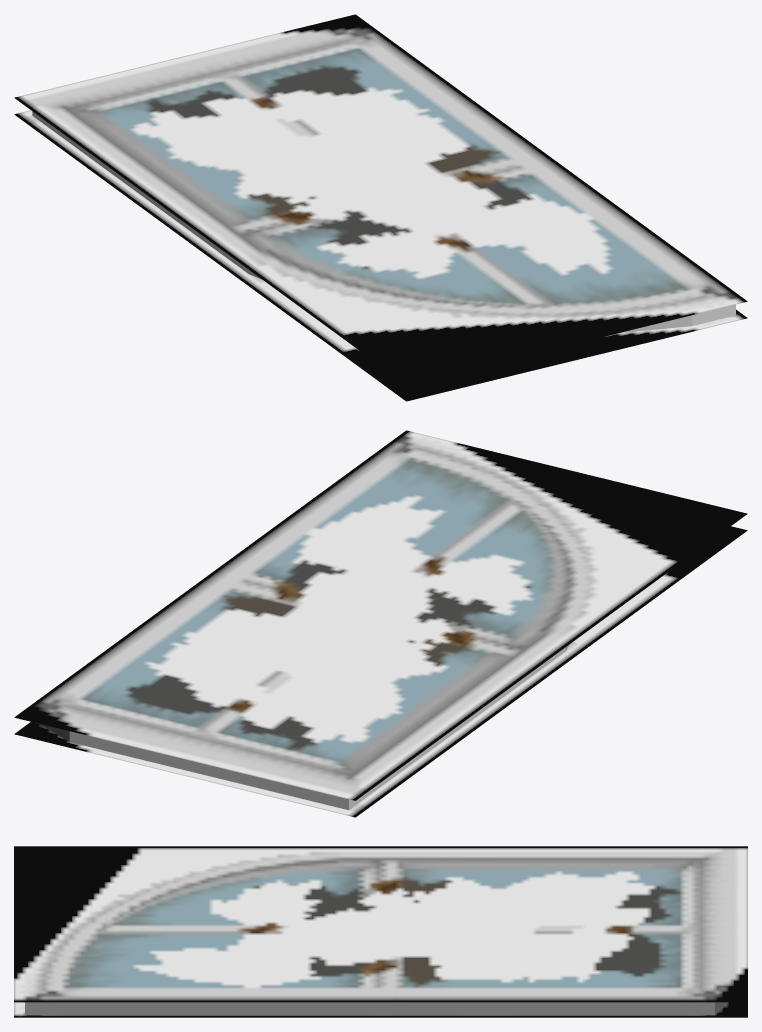
The model's file is pz_native_fixtures_windows_white_57_frame.obj.
3 renders of one model, top to bottom at view 1: azimuth 30°, elevation 25°; view 2: azimuth 150°, elevation 25°; view 3: azimuth 270°, elevation 25°, orthographic. The views are drawn at different scales.
Parts seen in each view (by area): view 1: pz_native_fixtures_windows_white_57_frame; view 2: pz_native_fixtures_windows_white_57_frame; view 3: pz_native_fixtures_windows_white_57_frame.
Part boxes in pixels (box(x1,y1,x2,y2)): pz_native_fixtures_windows_white_57_frame: box(14, 14, 747, 401); pz_native_fixtures_windows_white_57_frame: box(14, 430, 747, 817); pz_native_fixtures_windows_white_57_frame: box(14, 846, 747, 1017).
Size of the model in its own units: 0.8594 by 0.04 by 1.71.
Materials: 1 (1 with a texture image).
